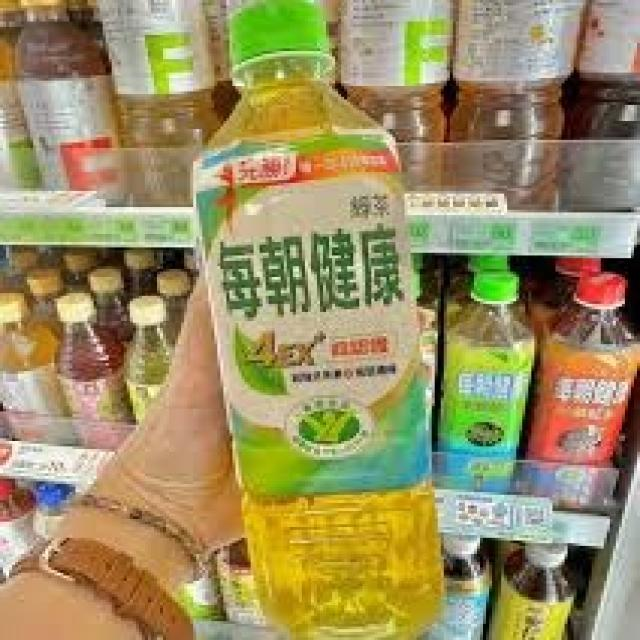MeiChou_GreenTea: (187, 3, 454, 632), (445, 259, 531, 494)
